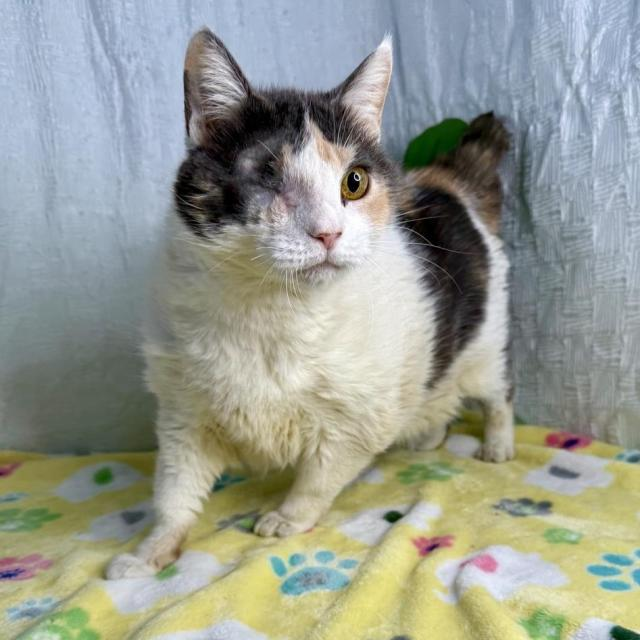calico_cat: (161, 26, 423, 314)
